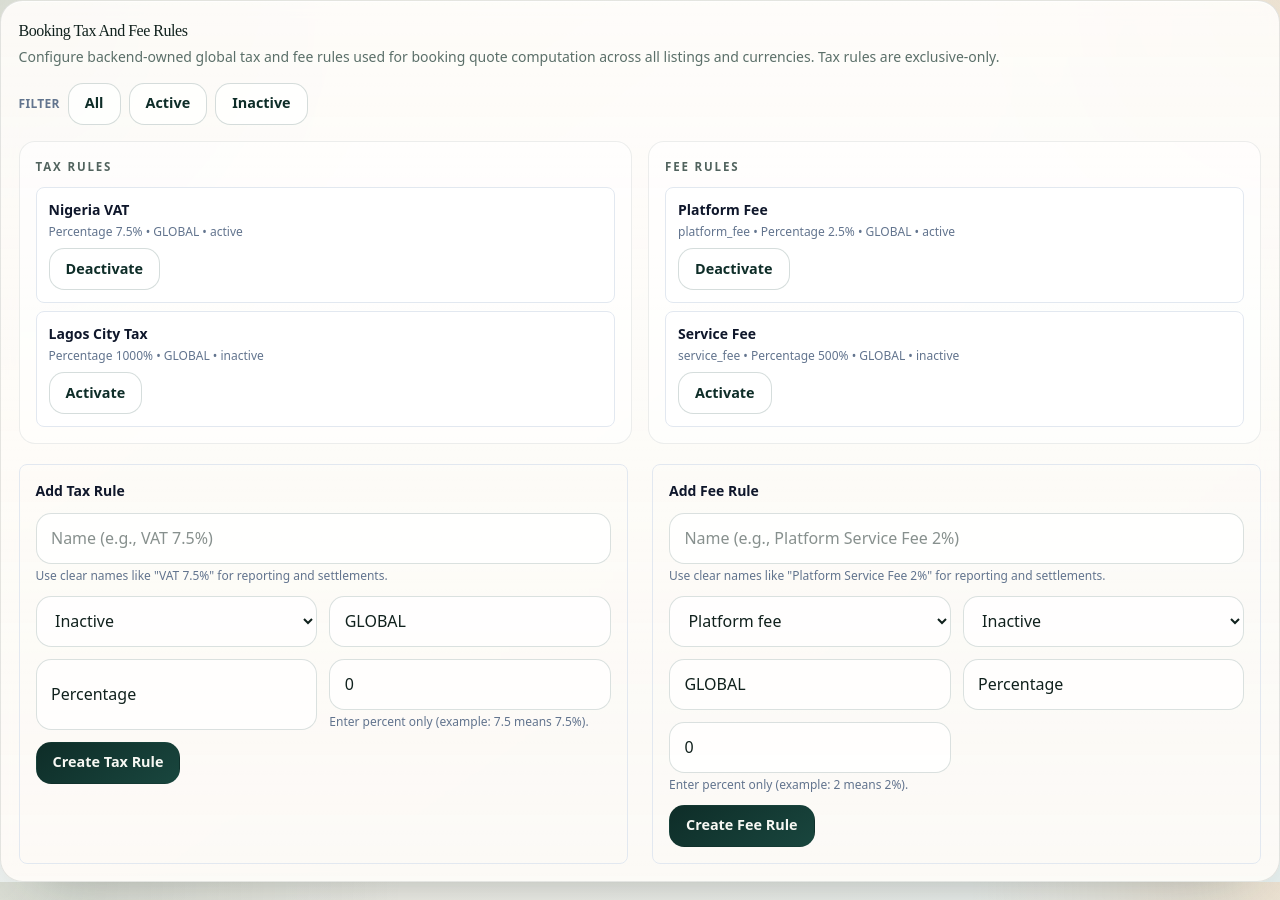
it: BookingPricingRulesPanel › filters to active rules only
The image size is (1280, 900).
expect the text "Nigeria VAT" is shown: met, box [49,200,129,219]
Click the button "Active".
click(168, 104)  # box [128,83,207,125]
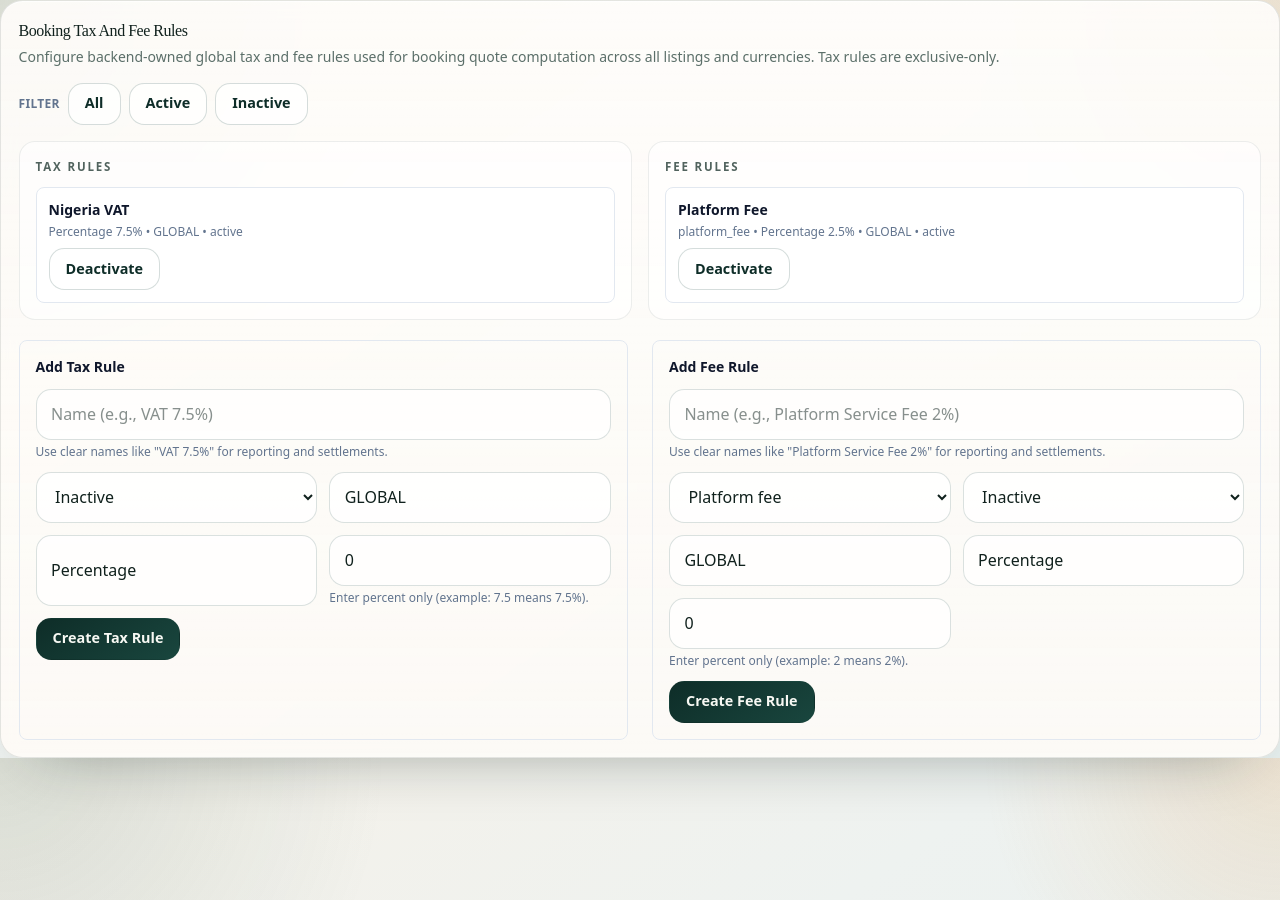
expect the text "Nigeria VAT" is shown: met, box [49,200,129,219]
expect the text "Lagos City Tax" is gone: met
